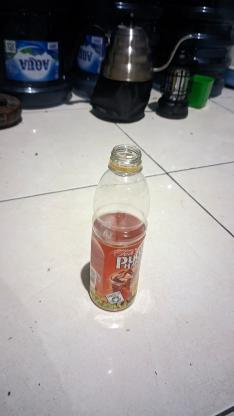Plastic Bottle: (88, 143, 150, 313)
